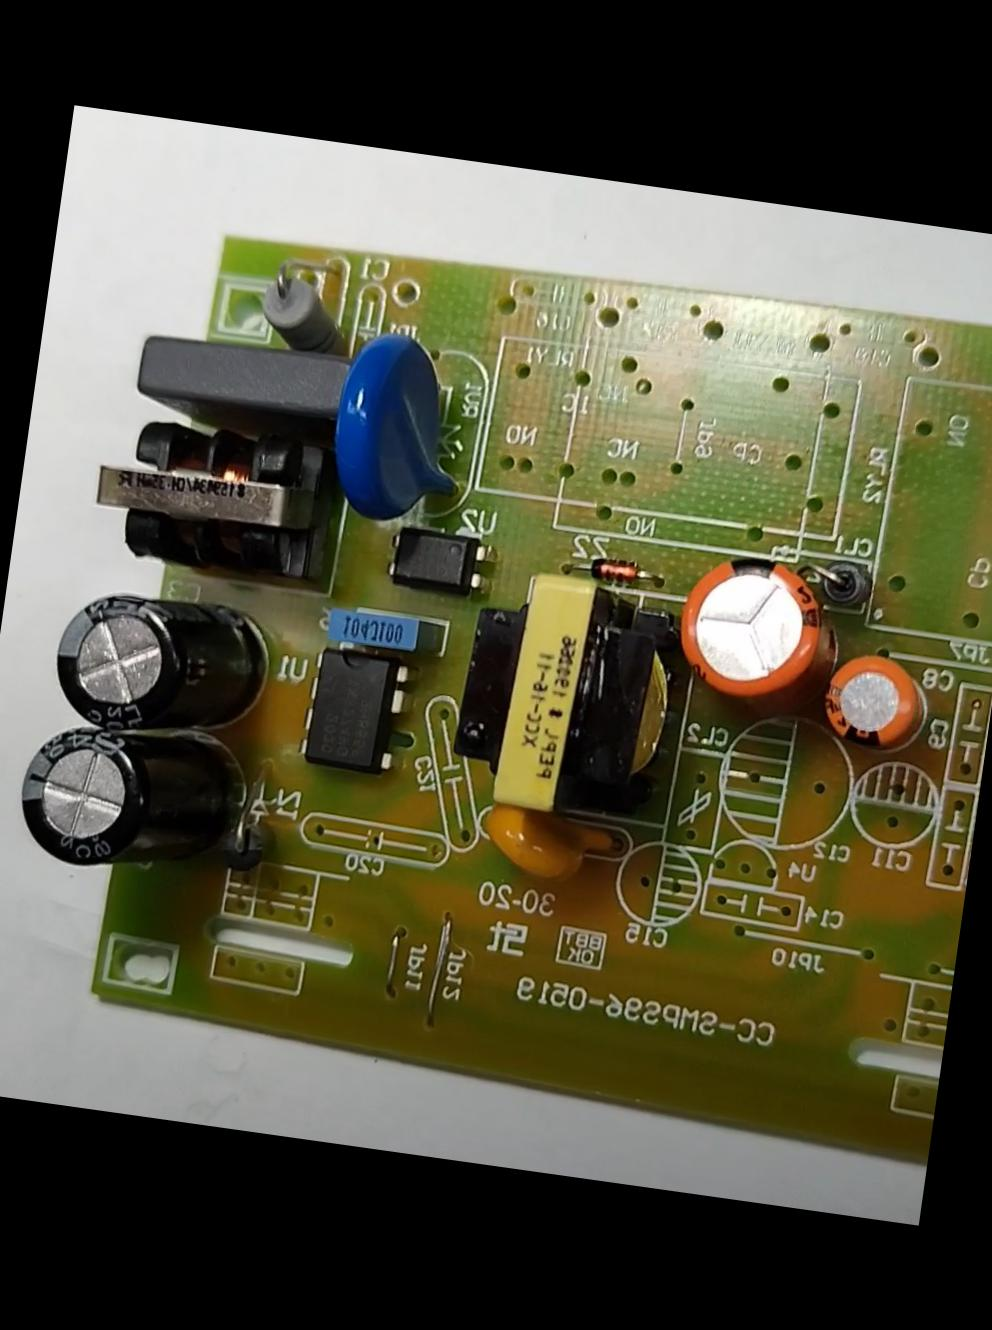Cap1: (662, 543, 842, 707)
Cap2: (812, 643, 929, 754)
Cap3: (41, 581, 275, 749)
Cap4: (10, 711, 235, 885)
MOSFET: (293, 638, 416, 779)
Mov: (324, 322, 474, 528)
Resistor: (244, 262, 354, 353)
Transformer: (443, 560, 685, 830), (81, 405, 340, 581)
